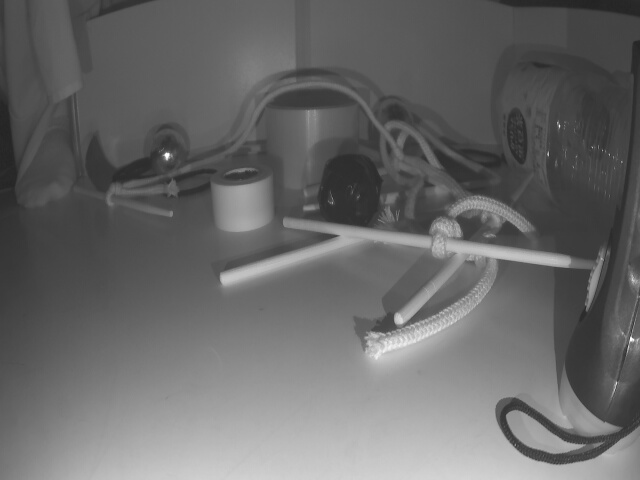Dead: (320, 157, 381, 232)
Live: (146, 130, 189, 178)
